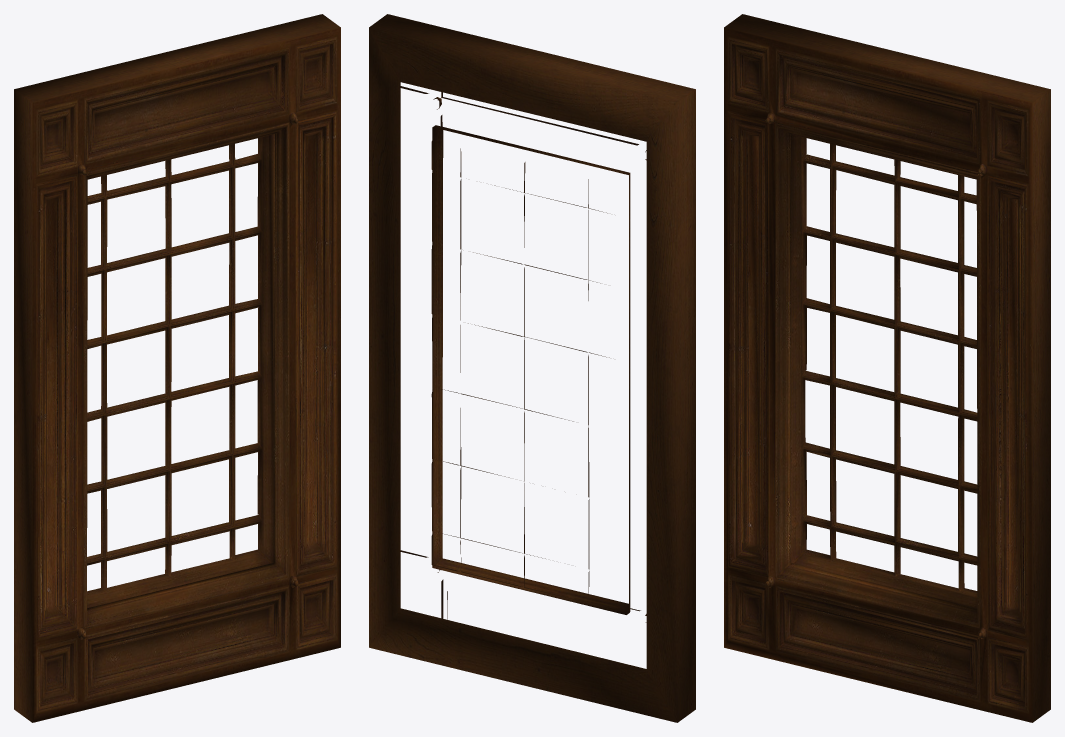
File: heritage-window.glb
3 renders of one model, left to right at view 1: azimuth 30°, elevation 25°; view 2: azimuth 150°, elevation 25°; view 3: azimuth 330°, elevation 25°, orthographic.
Parts seen in each view (by area): view 1: heritage-window|5; view 2: heritage-window|5; view 3: heritage-window|5.
Part boxes in pixels (box(x1,y1,x2,y2)): heritage-window|5: box(14, 14, 340, 722); heritage-window|5: box(369, 14, 695, 722); heritage-window|5: box(724, 14, 1050, 722).
Bounding box in the file's own units: 0.8149 × 1.57 × 0.1121.
1 material, 1 textured.
